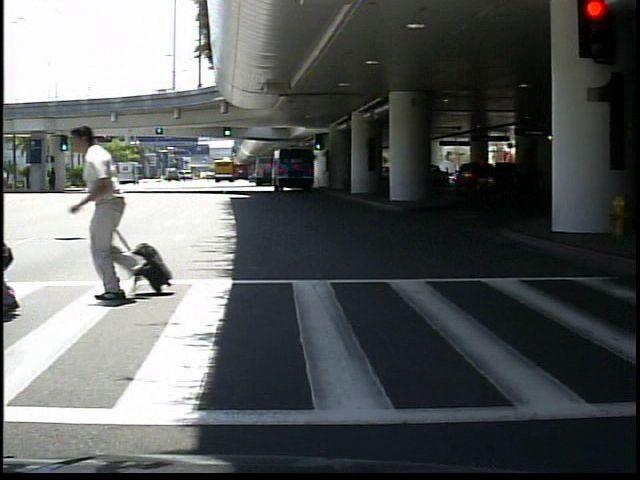person: (77, 122, 160, 301)
